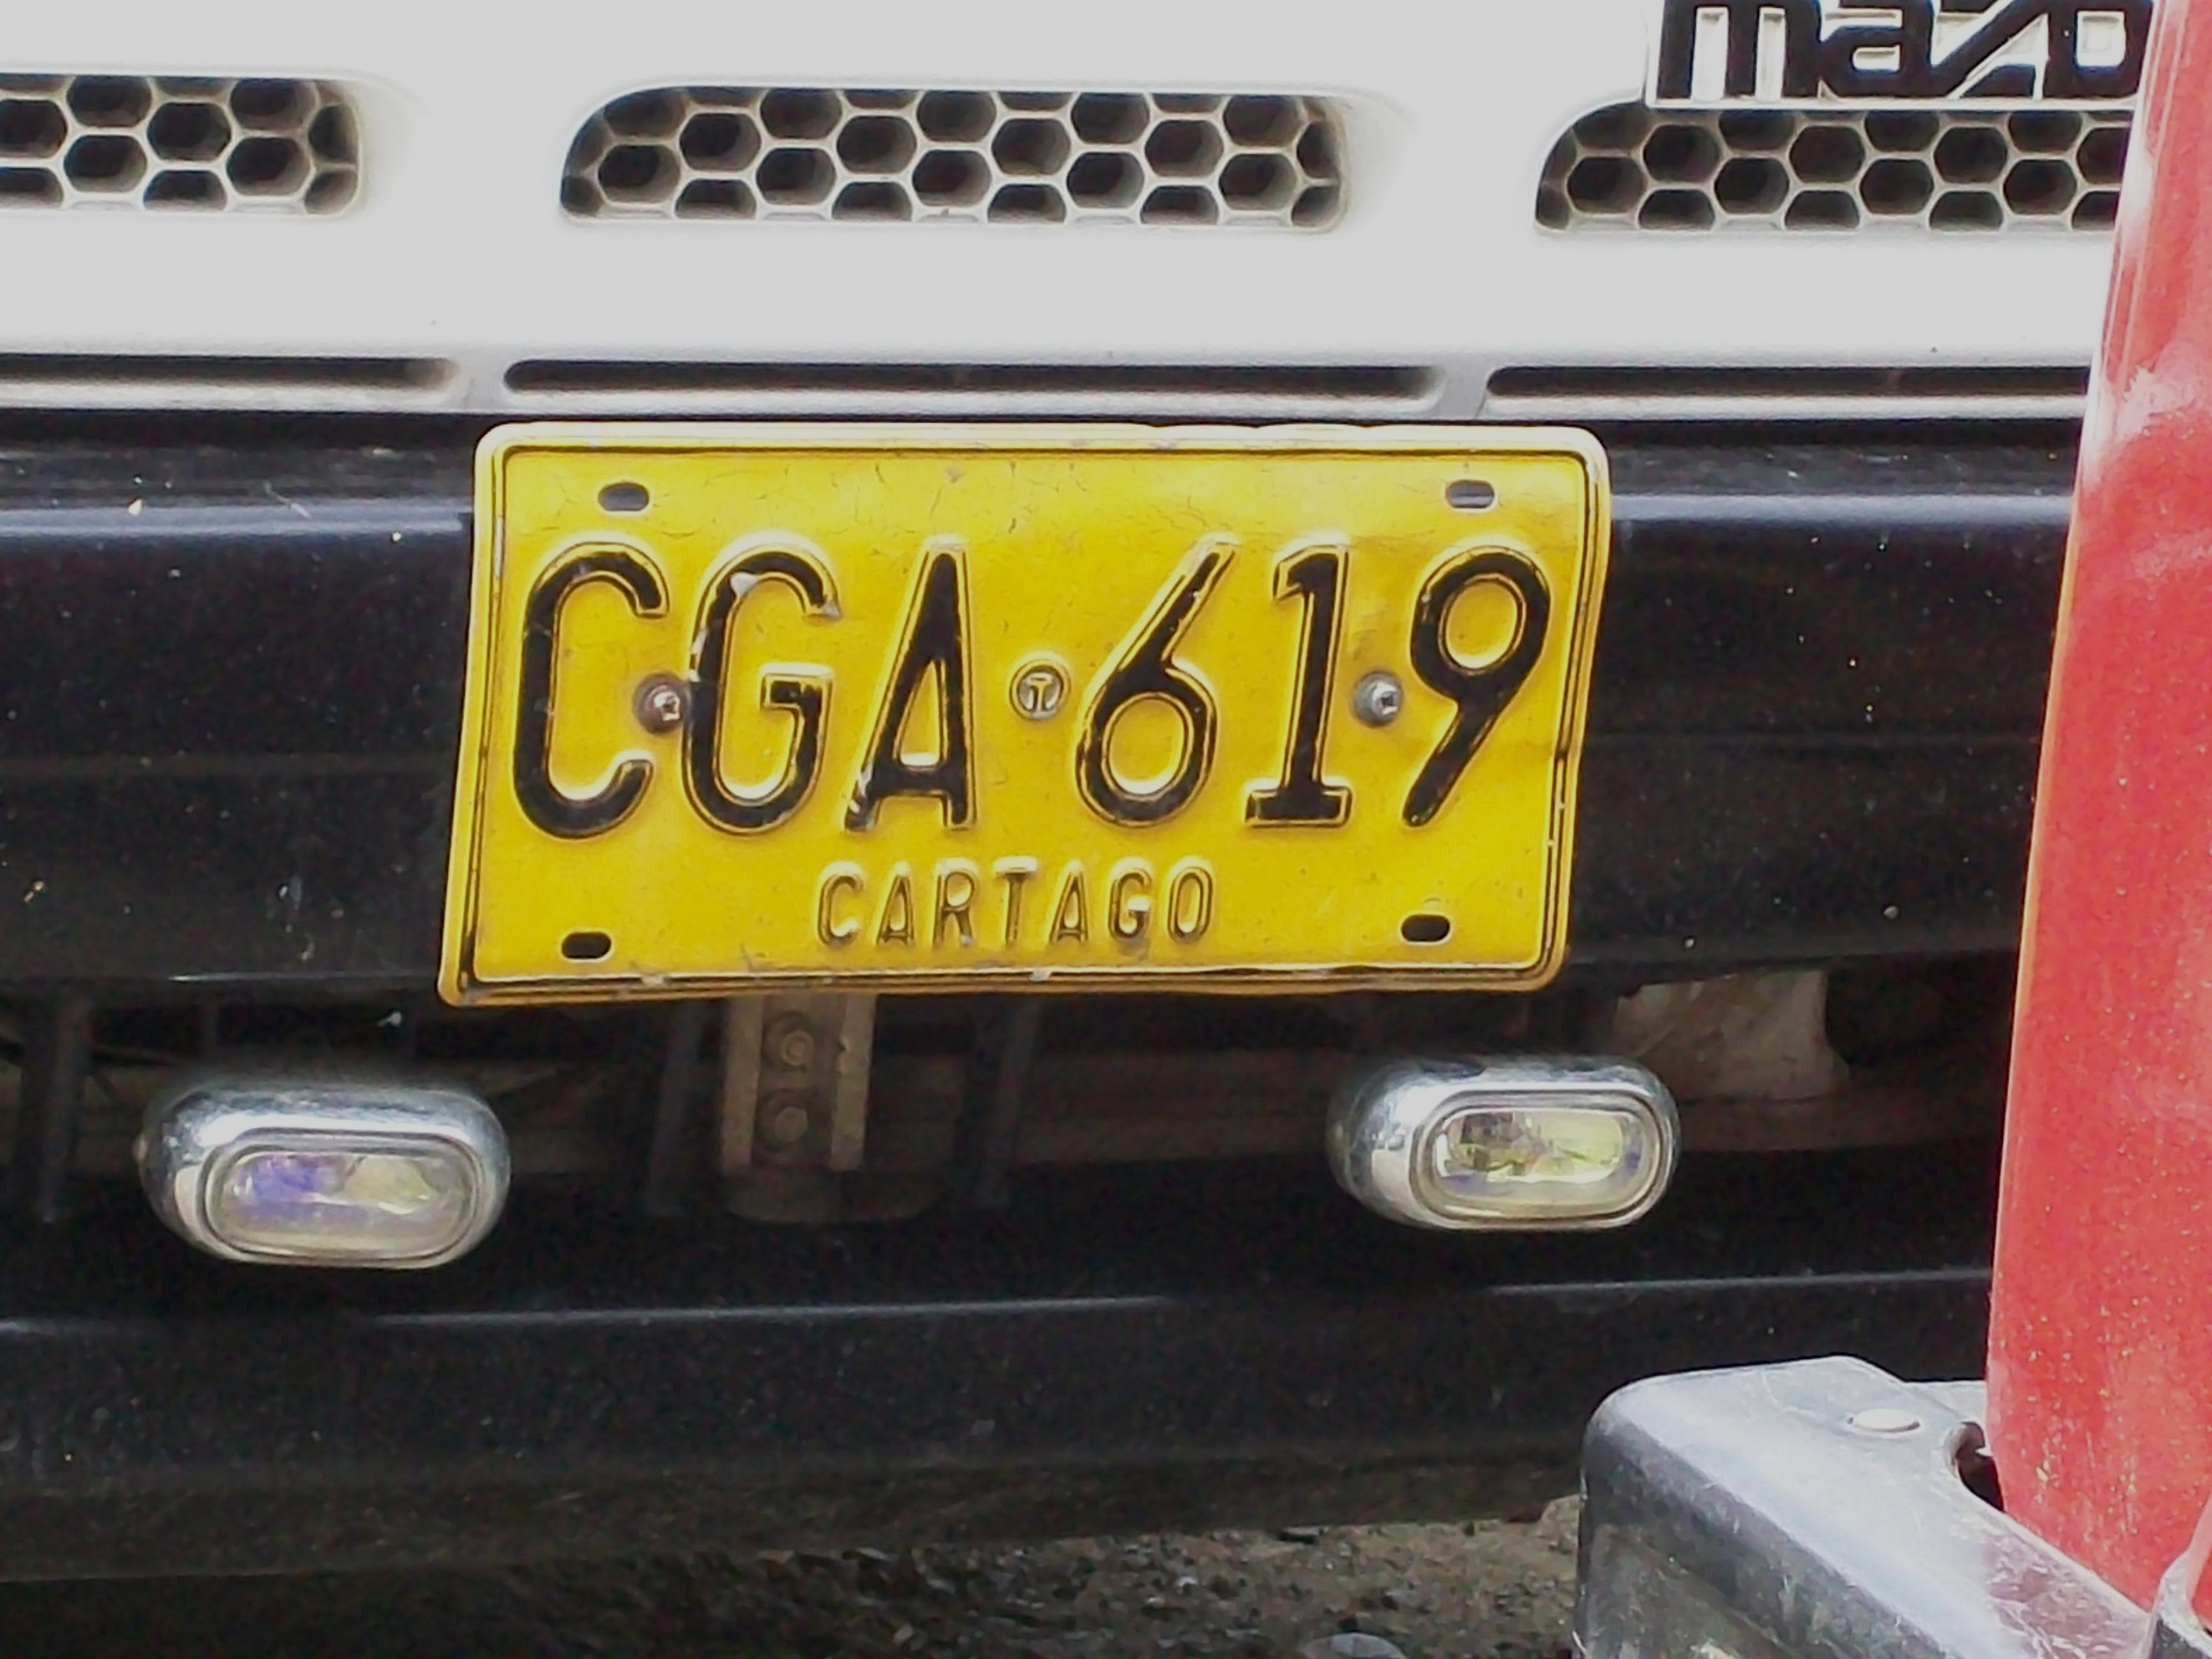placas: (427, 390, 1612, 1007)
